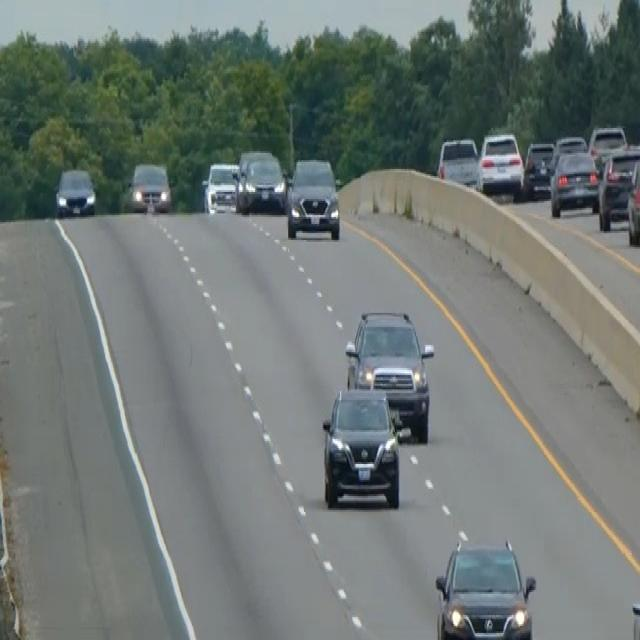car: (286, 155, 341, 240), (597, 144, 639, 231), (549, 147, 599, 217), (235, 150, 287, 213), (477, 130, 524, 199), (128, 160, 171, 213), (436, 135, 479, 187), (547, 134, 587, 188), (55, 165, 96, 217), (202, 160, 239, 213), (523, 139, 555, 197), (587, 123, 627, 165), (626, 153, 639, 245)
jeep: (343, 306, 435, 442), (319, 382, 403, 510), (433, 535, 537, 638)
